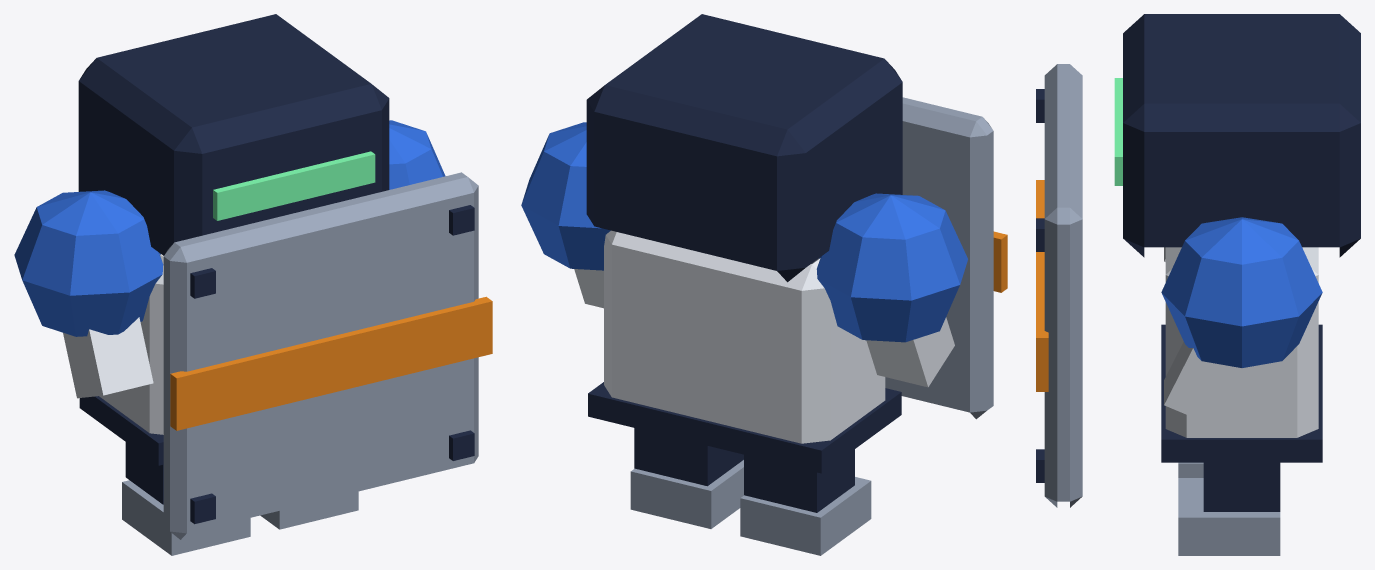
Rendered from brute_r9.glb.
3 views of the same model, side by side, from view 1: azimuth 30°, elevation 25°; view 2: azimuth 150°, elevation 25°; view 3: azimuth 270°, elevation 25° (orthographic). The views are drawn at different scales.
Parts seen in each view (by area): view 1: brute_r9_mesh; view 2: brute_r9_mesh; view 3: brute_r9_mesh.
Boxes of the visible parts, box(x1,y1,x2,y2) form: brute_r9_mesh: box(14, 14, 492, 555); brute_r9_mesh: box(521, 14, 1007, 555); brute_r9_mesh: box(1036, 14, 1360, 555).
Size of the model in its own units: 2.22 by 2.2 by 1.44.
1 material, 1 textured.
